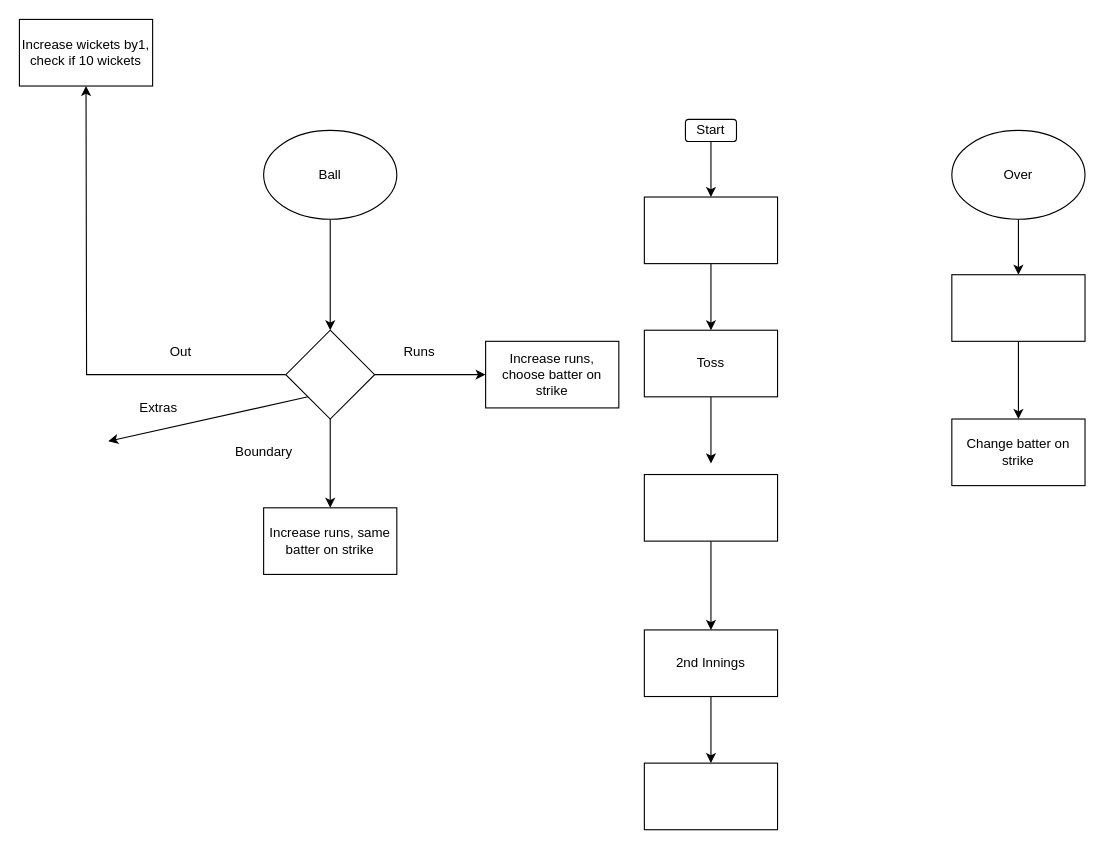
The diagram is 1104 pixels wide and 849 high, and some of its shapes have lost their labels. Each missing label, with the box of its shape:
1st Innings: (643, 473, 778, 541)
Choose bowler: (951, 274, 1085, 341)
Compare scores: (643, 762, 778, 830)
Enter team information: (643, 196, 778, 264)
